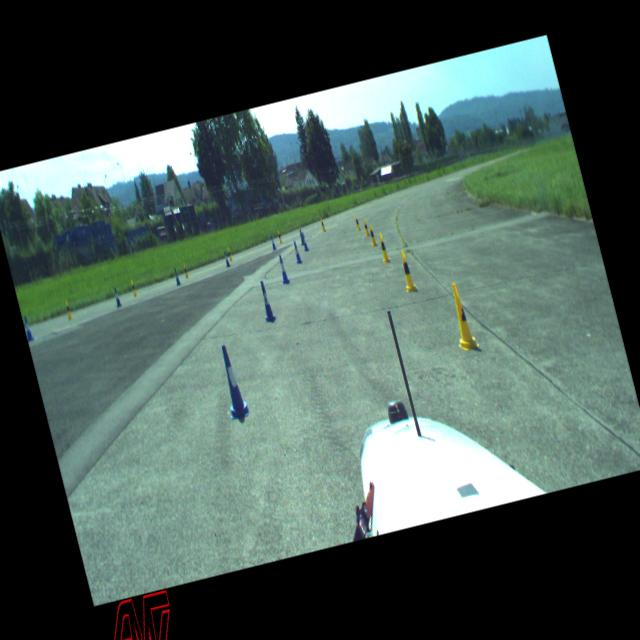blue_cone: (213, 342, 250, 419), (256, 279, 276, 323), (276, 253, 290, 284), (22, 316, 34, 342), (291, 240, 302, 262), (112, 286, 122, 307), (300, 232, 308, 250), (268, 233, 276, 250), (222, 251, 230, 267), (172, 268, 180, 284), (298, 228, 304, 245)
yellow_cone: (444, 280, 480, 352), (396, 248, 418, 293), (376, 232, 390, 262), (367, 222, 378, 246), (64, 298, 72, 318), (130, 278, 138, 296), (362, 218, 370, 235), (354, 213, 361, 230), (182, 262, 189, 278), (319, 216, 326, 232), (276, 228, 282, 244), (226, 246, 232, 261)
